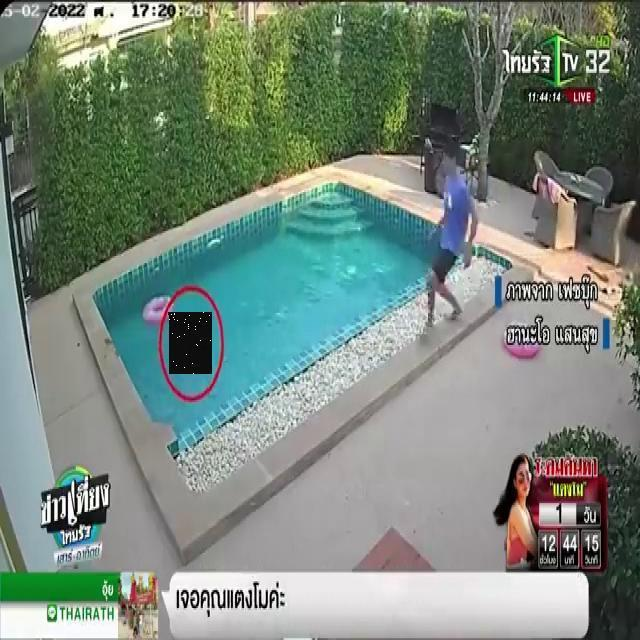Out of Water: (169, 312, 212, 374)
